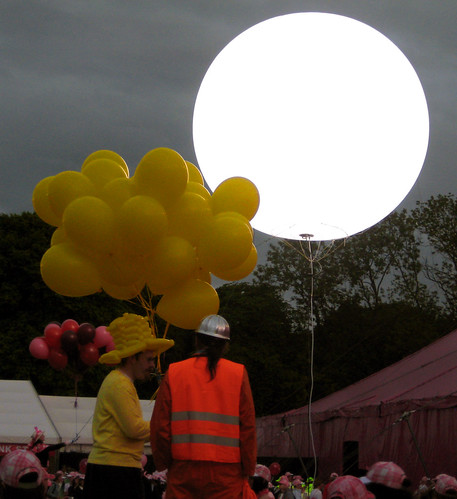person hardhat: (151, 315, 280, 499)
